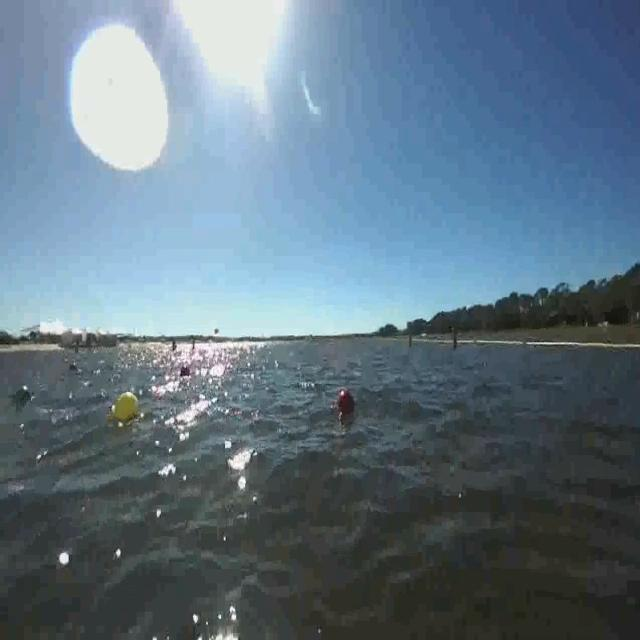red-buoy: (340, 395, 355, 414)
yellow-buoy: (112, 390, 143, 425)
